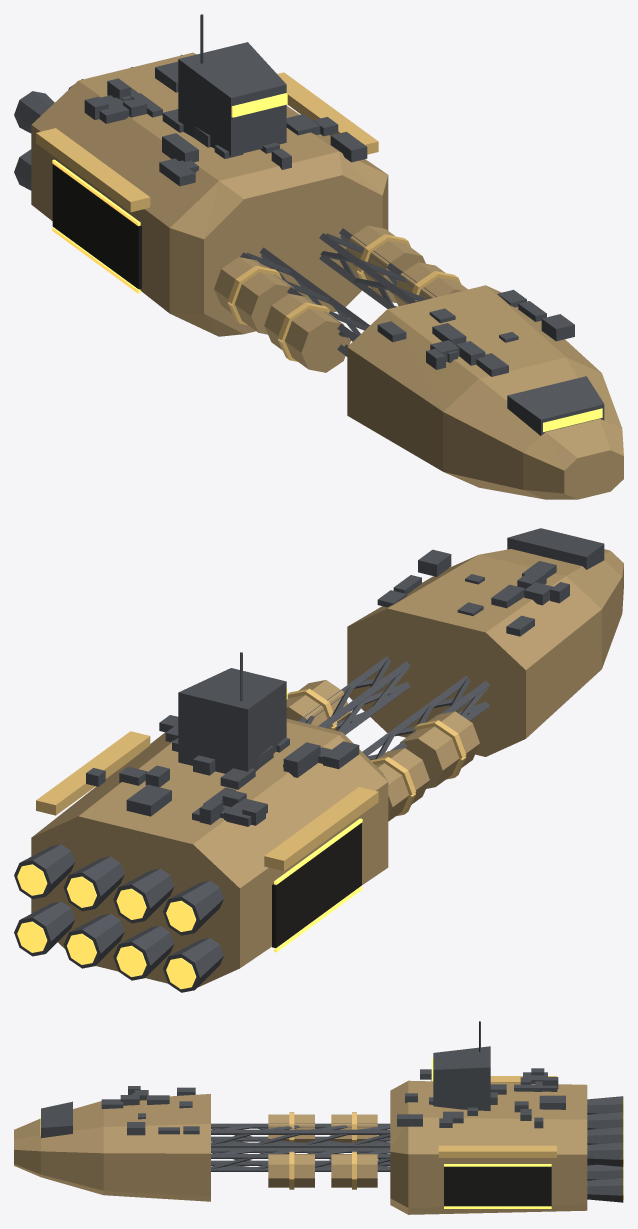
File: foundry_carrier.glb
3 views of the same model, one above another, from view 1: azimuth 30°, elevation 25°; view 2: azimuth 150°, elevation 25°; view 3: azimuth 270°, elevation 25° (orthographic). The views are drawn at different scales.
Visible parts, largest first — view 1: carrier; view 2: carrier; view 3: carrier.
Boxes of the visible parts, x1,y1,x2,y2 form: carrier: (14, 14, 623, 499); carrier: (14, 528, 623, 992); carrier: (14, 1021, 623, 1214).
Bounding box in the file's own units: 10 × 10.4 × 34.04.
